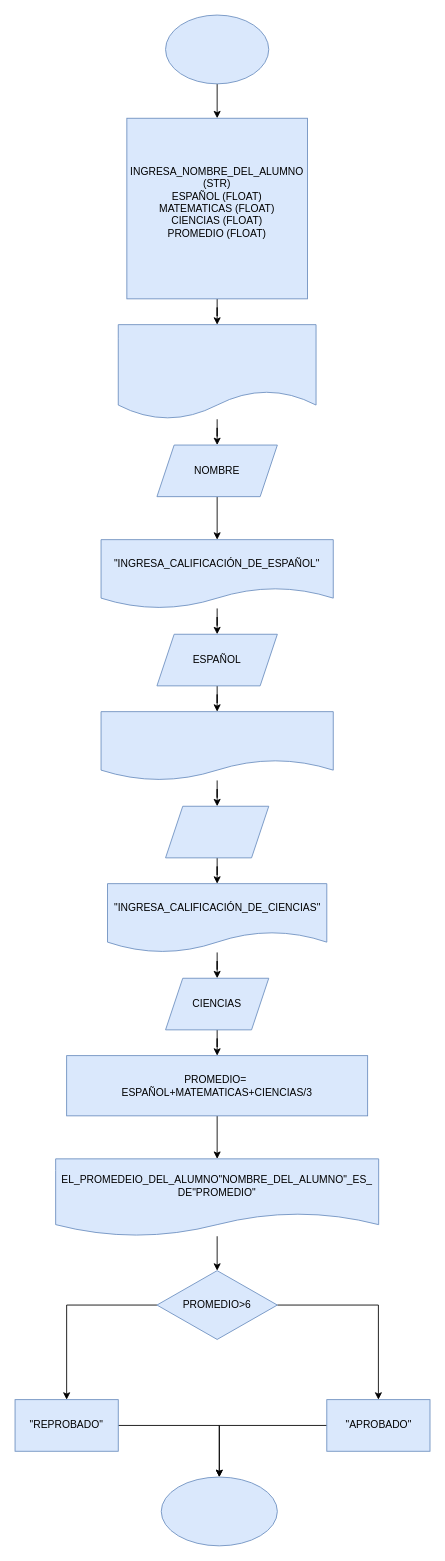
Some shapes in this 445 by 1561 pixel diagram are drawn without their labels. Each missing label, with the box of its shape:
"INGRESA_CALIFICACIÓN_DE_MATEMATICAS: (100, 711, 333, 780)
"INGRESA_NOMBRE_DEL_ALUMNO": (117, 324, 316, 419)
FIN: (160, 1476, 277, 1546)
INICIO: (165, 14, 269, 84)
MATEMATICAS: (165, 805, 269, 858)
